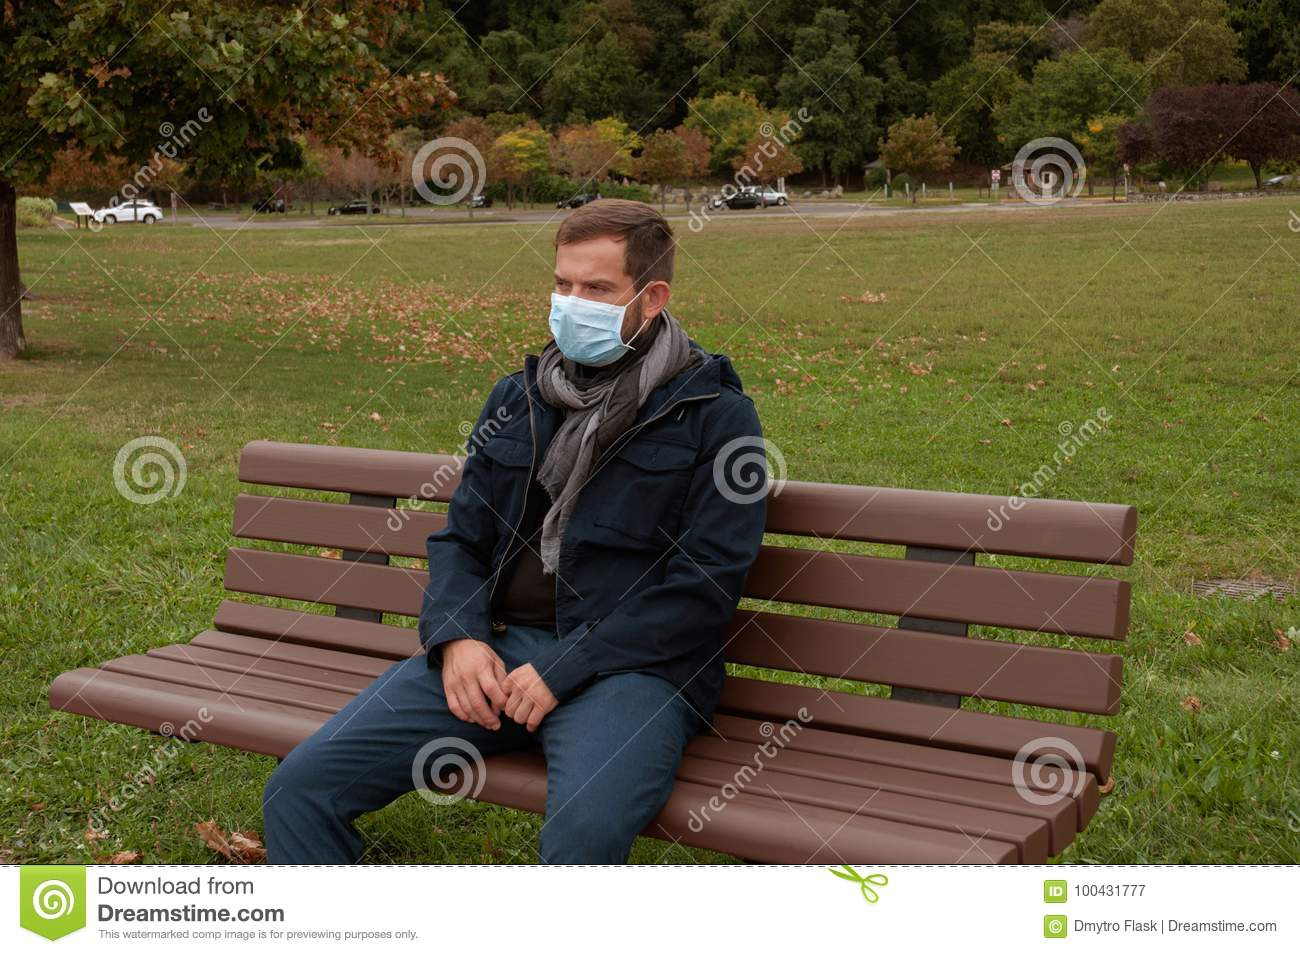mask: (546, 297, 635, 372)
